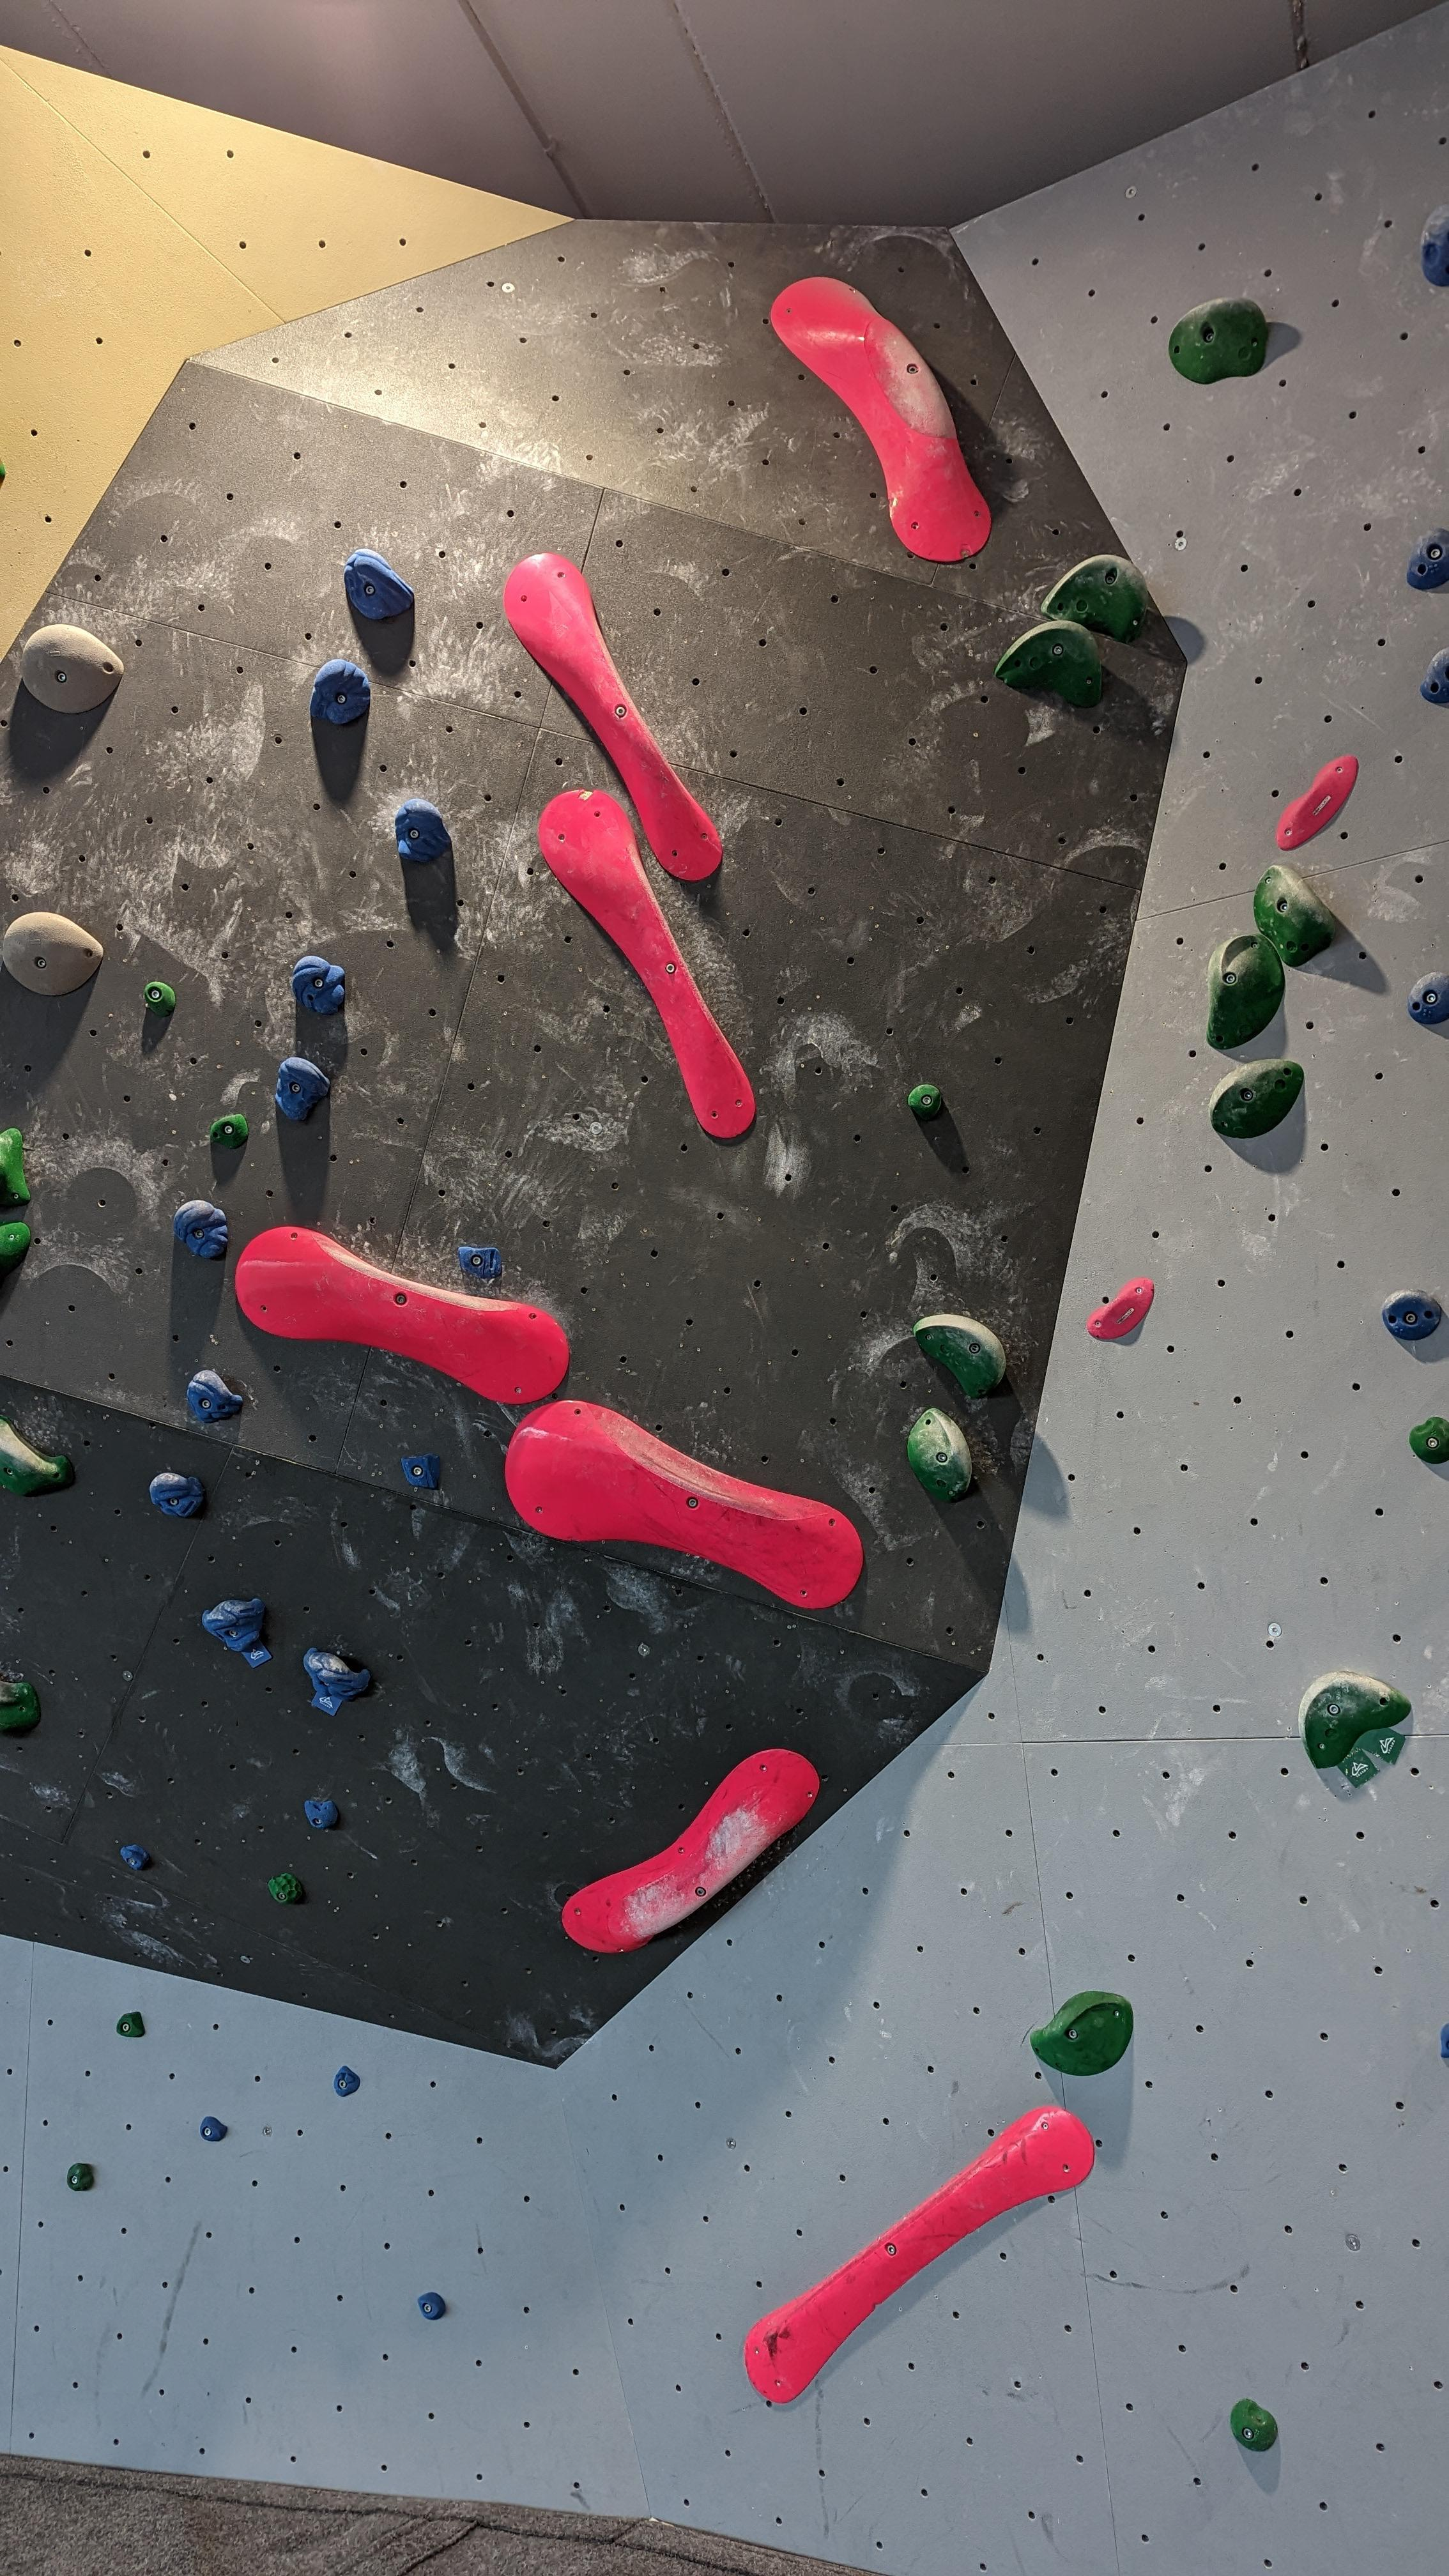hold: (745, 2105, 1095, 2403), (538, 789, 755, 1139), (504, 1399, 865, 1608), (504, 552, 724, 883), (770, 276, 993, 563), (235, 1226, 570, 1405), (563, 1750, 819, 1953), (1297, 1670, 1412, 1769), (994, 619, 1102, 708), (1040, 554, 1148, 642), (1205, 934, 1284, 1049), (21, 625, 124, 713), (1030, 1990, 1134, 2077), (1168, 297, 1269, 384), (2, 911, 103, 996), (1254, 865, 1336, 968), (913, 1315, 1007, 1399), (1276, 755, 1357, 851), (1208, 1058, 1304, 1138), (908, 1407, 973, 1502), (0, 1414, 74, 1495), (343, 548, 414, 619), (310, 658, 372, 725), (1086, 1277, 1154, 1339), (303, 1647, 372, 1702), (395, 798, 451, 863), (276, 1056, 331, 1122), (202, 1598, 265, 1651), (173, 1200, 228, 1258), (292, 955, 345, 1016), (1382, 1288, 1442, 1341), (186, 1369, 242, 1422), (1407, 527, 1449, 589), (1230, 2399, 1277, 2452), (149, 1472, 203, 1518), (1421, 203, 1449, 288), (1407, 971, 1449, 1024), (0, 1679, 41, 1732), (1410, 1417, 1449, 1463), (1421, 648, 1449, 704), (0, 1219, 32, 1269), (458, 1246, 502, 1279), (400, 1453, 441, 1488), (211, 1115, 248, 1148), (908, 1085, 941, 1122), (267, 1872, 303, 1904), (143, 980, 175, 1016), (303, 1799, 338, 1829), (418, 2291, 446, 2321), (333, 2066, 361, 2097), (120, 1844, 150, 1870), (67, 2162, 94, 2190), (117, 2012, 145, 2038), (200, 2116, 228, 2141), (1440, 2022, 1449, 2058)
